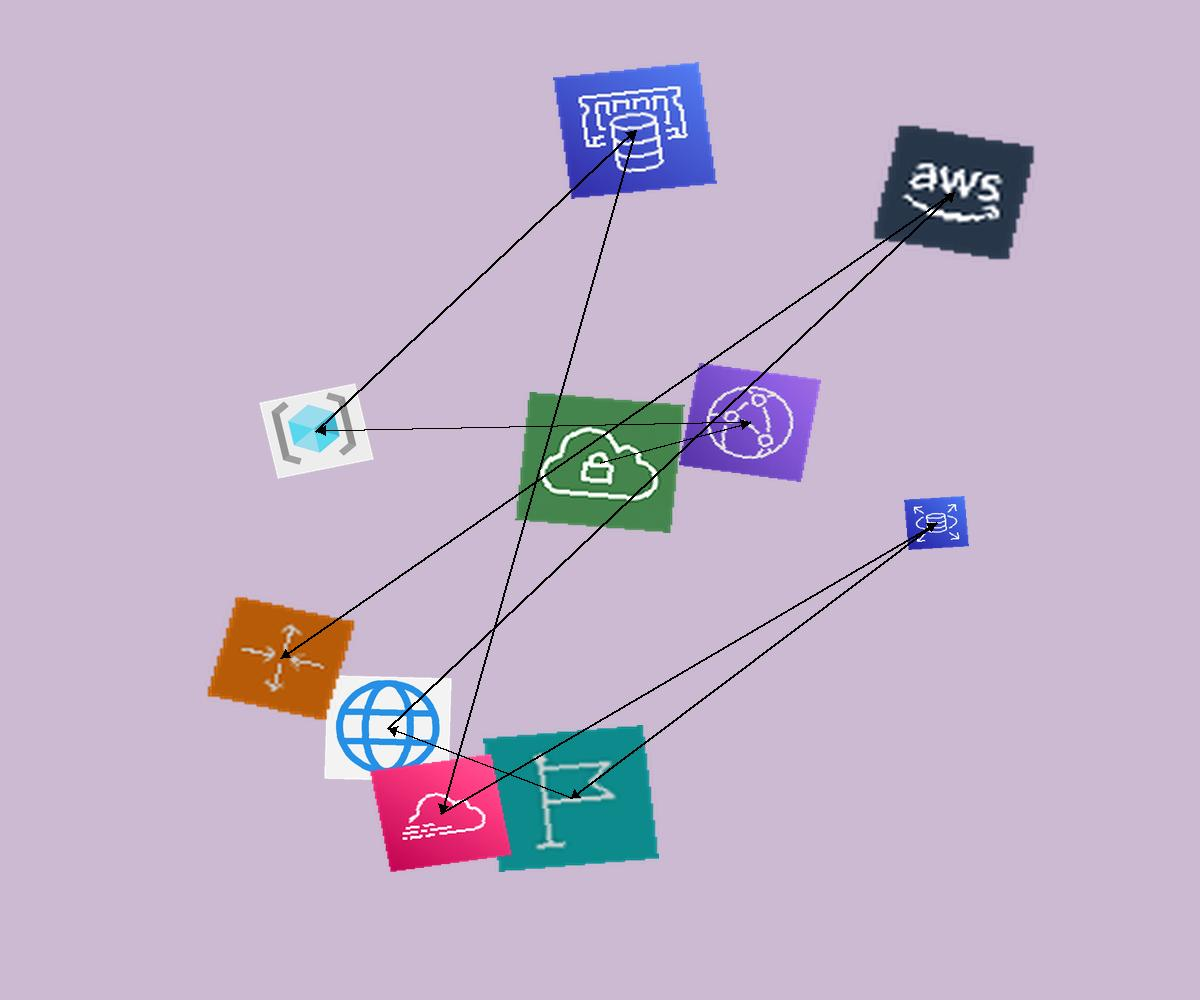AWS-Cloud-logo: (871, 123, 1037, 262)
AWS-CloudFront: (679, 363, 821, 482)
AWS-CloudTrail: (369, 753, 513, 873)
AWS-ElastiCache: (553, 62, 717, 199)
AWS-Private_vpc: (515, 392, 685, 533)
AWS-RDS: (904, 496, 969, 550)
AWS-Region: (483, 725, 659, 872)
AWS-Scaling-group: (205, 595, 357, 722)
Azure_http: (324, 675, 452, 782)
Azure_resource_group: (259, 383, 374, 479)
